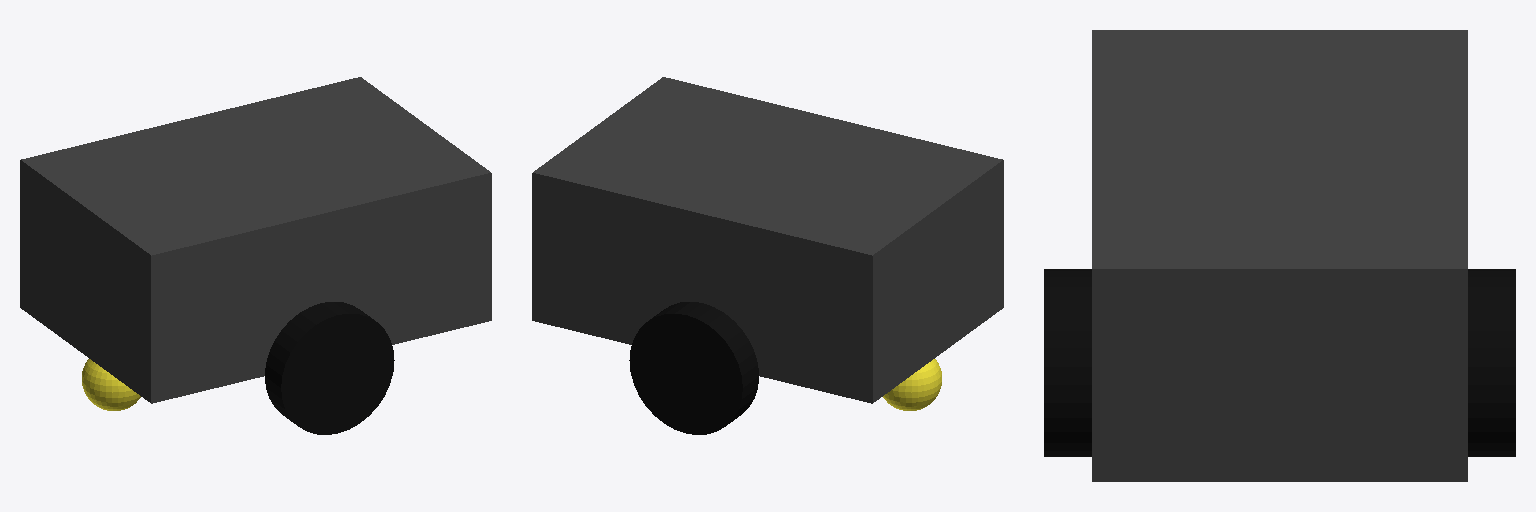
URDF robot description (utp_g):
<?xml version="1.0" ?>
<!-- =================================================================================== -->
<!-- |    This document was autogenerated by xacro from urdf/utp_g.urdf.xacro          | -->
<!-- |    EDITING THIS FILE BY HAND IS NOT RECOMMENDED                                 | -->
<!-- =================================================================================== -->
<robot name="utp_g">
  <!-- UTP-G Base (Ground Platform) -->
  <!-- This xacro serves as fallback URDF base; runtime URDF is assembled by urdf_composer.py -->
  <!-- Base link -->
  <link name="base_link">
    <visual>
      <geometry>
        <box size="0.6 0.4 0.25"/>
      </geometry>
      <material name="grey">
        <color rgba="0.3 0.3 0.3 1.0"/>
      </material>
    </visual>
    <collision>
      <geometry>
        <box size="0.6 0.4 0.25"/>
      </geometry>
    </collision>
    <inertial>
      <mass value="15.0"/>
      <inertia ixx="0.29" ixy="0" ixz="0" iyy="0.58" iyz="0" izz="0.73"/>
    </inertial>
  </link>
  <!-- Left wheel -->
  <link name="left_wheel">
    <visual>
      <geometry>
        <cylinder length="0.05" radius="0.1"/>
      </geometry>
      <material name="black">
        <color rgba="0.1 0.1 0.1 1.0"/>
      </material>
    </visual>
    <collision>
      <geometry>
        <cylinder length="0.05" radius="0.1"/>
      </geometry>
    </collision>
    <inertial>
      <mass value="0.5"/>
      <inertia ixx="0.0013" ixy="0" ixz="0" iyy="0.0013" iyz="0" izz="0.0025"/>
    </inertial>
  </link>
  <joint name="left_wheel_joint" type="continuous">
    <parent link="base_link"/>
    <child link="left_wheel"/>
    <origin rpy="-1.5708 0 0" xyz="0 0.225 -0.125"/>
    <axis xyz="0 0 1"/>
  </joint>
  <!-- Right wheel -->
  <link name="right_wheel">
    <visual>
      <geometry>
        <cylinder length="0.05" radius="0.1"/>
      </geometry>
      <material name="black">
        <color rgba="0.1 0.1 0.1 1.0"/>
      </material>
    </visual>
    <collision>
      <geometry>
        <cylinder length="0.05" radius="0.1"/>
      </geometry>
    </collision>
    <inertial>
      <mass value="0.5"/>
      <inertia ixx="0.0013" ixy="0" ixz="0" iyy="0.0013" iyz="0" izz="0.0025"/>
    </inertial>
  </link>
  <joint name="right_wheel_joint" type="continuous">
    <parent link="base_link"/>
    <child link="right_wheel"/>
    <origin rpy="-1.5708 0 0" xyz="0 -0.225 -0.125"/>
    <axis xyz="0 0 1"/>
  </joint>
  <!-- Caster wheel -->
  <link name="caster_wheel">
    <visual>
      <geometry>
        <sphere radius="0.05"/>
      </geometry>
    </visual>
    <collision>
      <geometry>
        <sphere radius="0.05"/>
      </geometry>
    </collision>
    <inertial>
      <mass value="0.2"/>
      <inertia ixx="0.0002" ixy="0" ixz="0" iyy="0.0002" iyz="0" izz="0.0002"/>
    </inertial>
  </link>
  <joint name="caster_joint" type="fixed">
    <parent link="base_link"/>
    <child link="caster_wheel"/>
    <origin xyz="-0.25 0 -0.175"/>
  </joint>
  <!-- Mount slots (empty by default; equipment added by urdf_composer) -->
  <!-- top_slot: 0, 0, 0.125 -->
  <!-- front_slot: 0.3, 0, 0.0 -->
  <!-- cargo_slot: -0.2, 0, 0.125 -->
</robot>

--- What the picture shows (computed from the rendered views, not written in the file) ---
3 views of the same robot in one strip: view 1: azimuth 30°, elevation 25°; view 2: azimuth 150°, elevation 25°; view 3: azimuth 270°, elevation 25° (orthographic).
Model utp_g with 4 links and 3 joints (2 continuous, 1 fixed), rooted at base_link, posed all joints at 0.
Visible links, largest first — view 1: base_link, right_wheel, caster_wheel; view 2: base_link, left_wheel, caster_wheel; view 3: base_link, left_wheel, right_wheel.
Boxes of the visible links, box(x1,y1,x2,y2) form: base_link: box(20, 77, 491, 403); right_wheel: box(265, 302, 394, 434); caster_wheel: box(82, 359, 140, 410); base_link: box(532, 77, 1003, 403); left_wheel: box(629, 302, 758, 434); caster_wheel: box(883, 359, 941, 410); base_link: box(1092, 30, 1467, 481); left_wheel: box(1468, 269, 1515, 456); right_wheel: box(1044, 269, 1091, 456).
Bounding box of the posed robot: 0.6 × 0.5 × 0.35 m (x, y, z).
Geometry: primitives only (box / cylinder / sphere), no mesh files.
